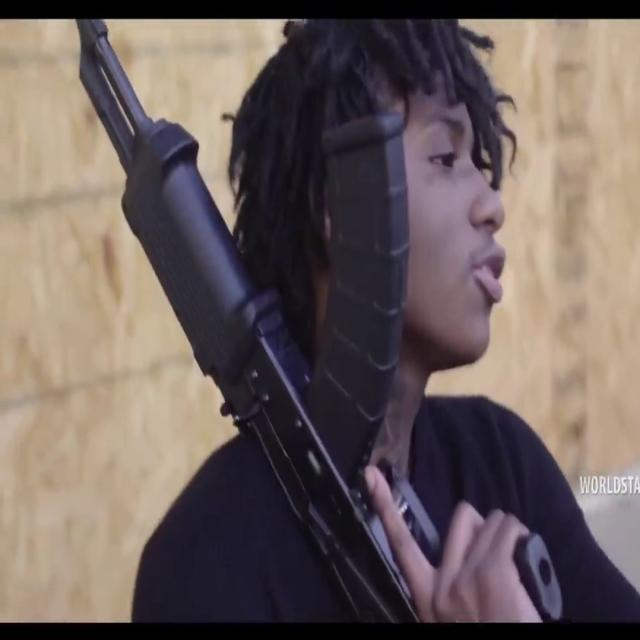Rifle: (72, 24, 541, 627)
